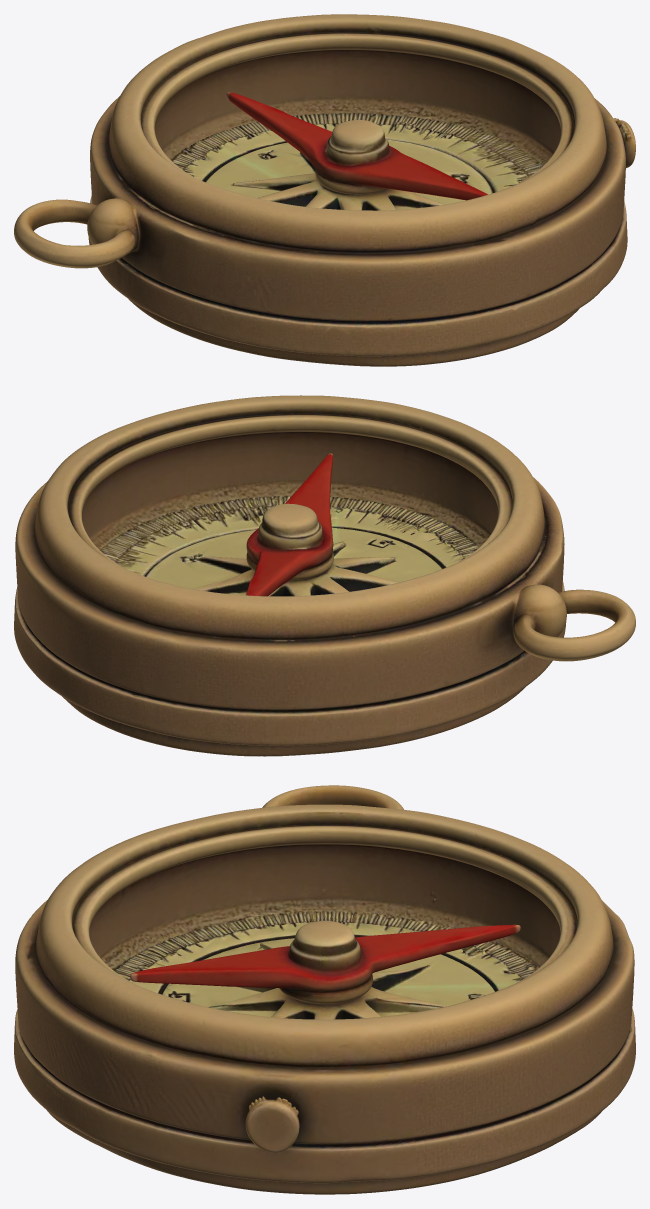
The model's file is sidu-compass.glb.
3 views of the same model, one above another, from view 1: azimuth 30°, elevation 25°; view 2: azimuth 150°, elevation 25°; view 3: azimuth 270°, elevation 25° (orthographic). The views are drawn at different scales.
Visible parts, largest first — view 1: tripo_node_0dd9c881-ff54-4e77-a9b6-50311c999059; view 2: tripo_node_0dd9c881-ff54-4e77-a9b6-50311c999059; view 3: tripo_node_0dd9c881-ff54-4e77-a9b6-50311c999059.
Part boxes in pixels (x1,y1,x2,y2): tripo_node_0dd9c881-ff54-4e77-a9b6-50311c999059: (14, 14, 635, 366); tripo_node_0dd9c881-ff54-4e77-a9b6-50311c999059: (14, 395, 635, 756); tripo_node_0dd9c881-ff54-4e77-a9b6-50311c999059: (14, 785, 635, 1194).
Bounding box in the file's own units: 0.9795 × 0.2365 × 0.8157.
Materials: 1 (1 with a texture image).
